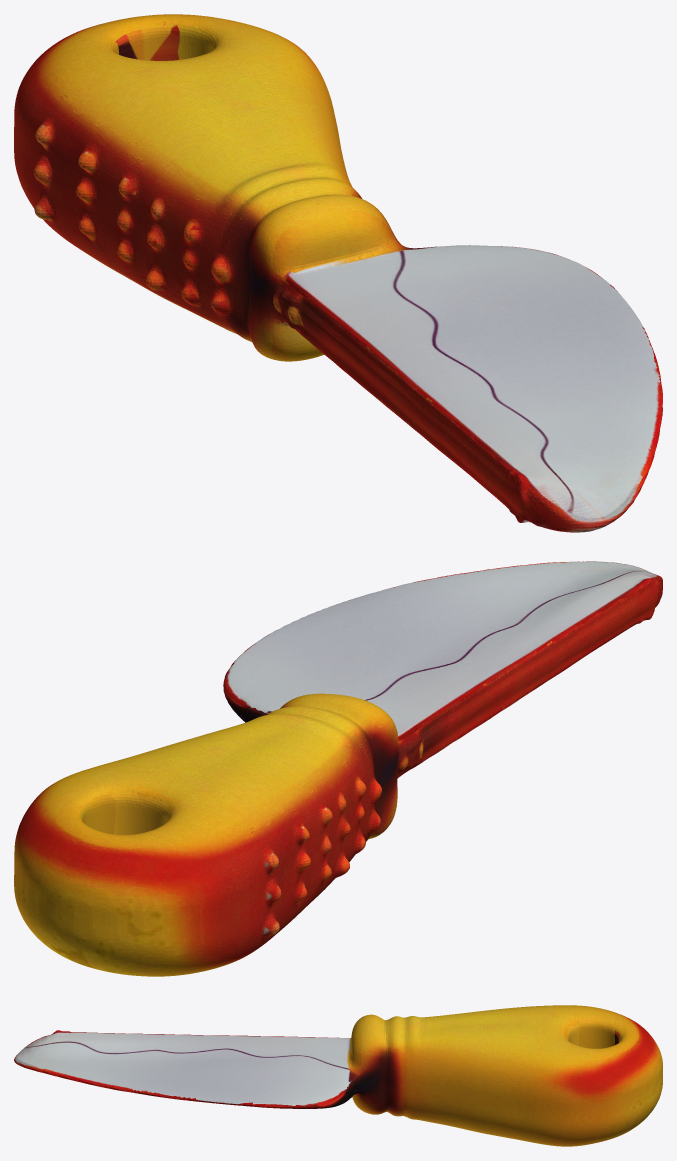
Rendered from image_0000_segmented.glb.
The picture shows the model from 3 angles, top to bottom: view 1: azimuth 30°, elevation 25°; view 2: azimuth 150°, elevation 25°; view 3: azimuth 270°, elevation 25°; orthographic projection. The views are drawn at different scales.
Visible parts, largest first — view 1: tmpz06n0bxw.ply; view 2: tmpz06n0bxw.ply; view 3: tmpz06n0bxw.ply.
Boxes of the visible parts, box(x1,y1,x2,y2) form: tmpz06n0bxw.ply: box(14, 14, 662, 532); tmpz06n0bxw.ply: box(14, 561, 662, 976); tmpz06n0bxw.ply: box(14, 1005, 662, 1146).
Size of the model in its own units: 0.5941 by 0.3396 by 1.99.
1 material, 1 textured.
